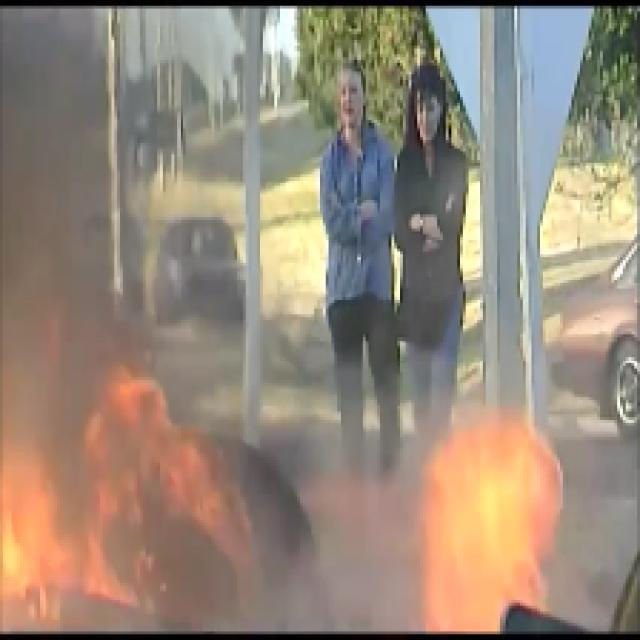Fire: (6, 357, 240, 637), (417, 412, 557, 637)
Smoke: (2, 28, 94, 343)
